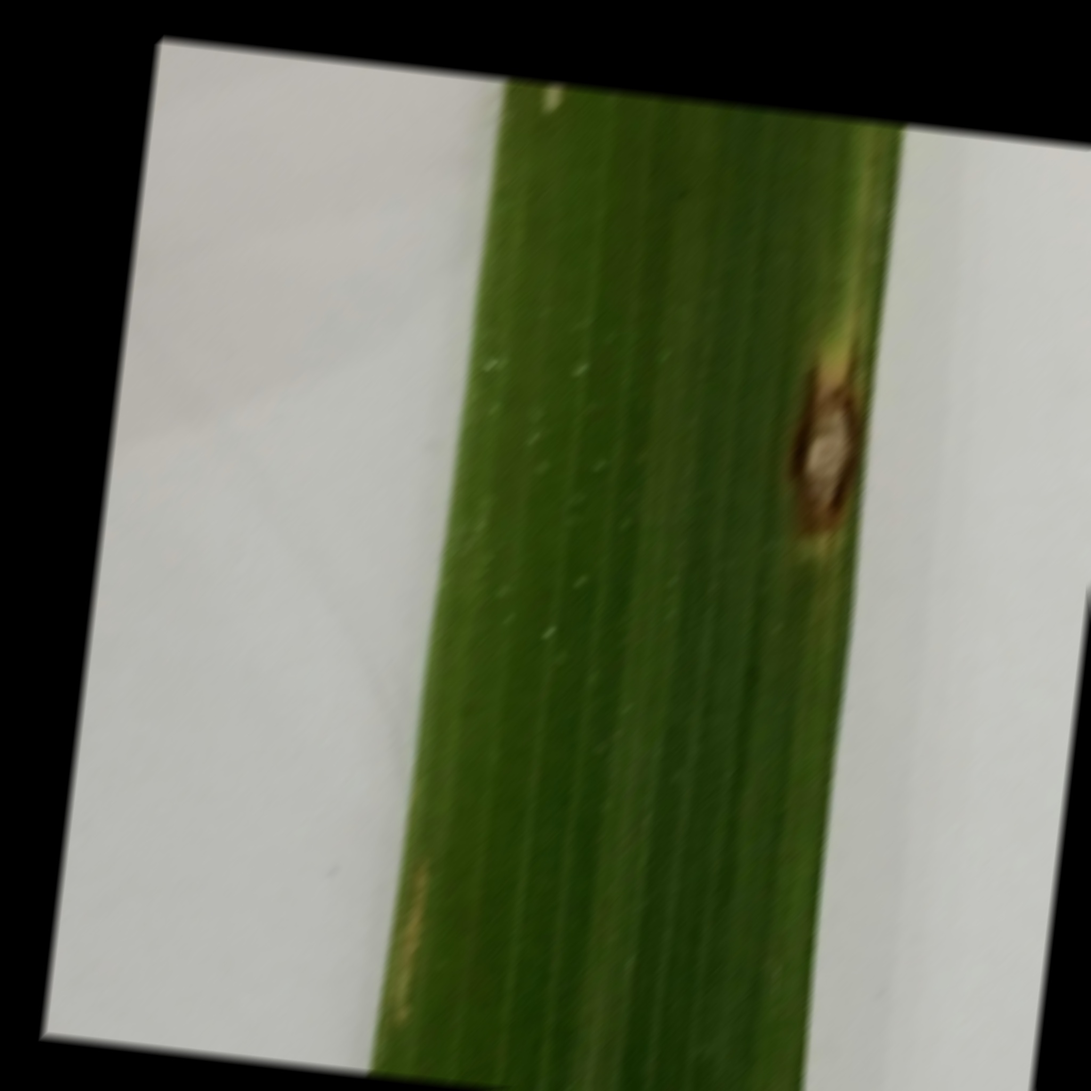Brown_Spot: (755, 278, 910, 591)
